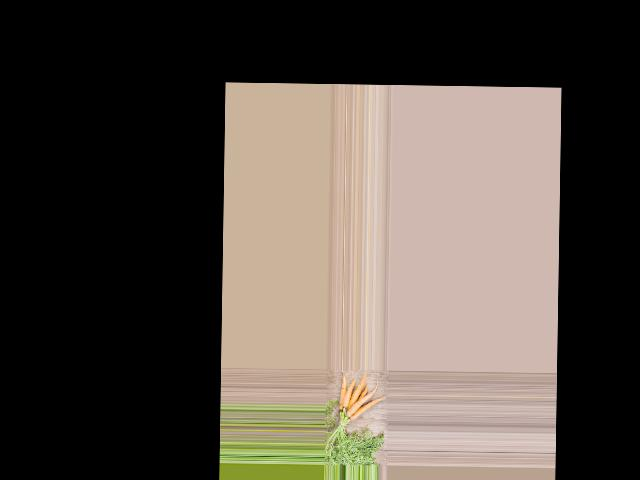carrot: (338, 378, 357, 411)
